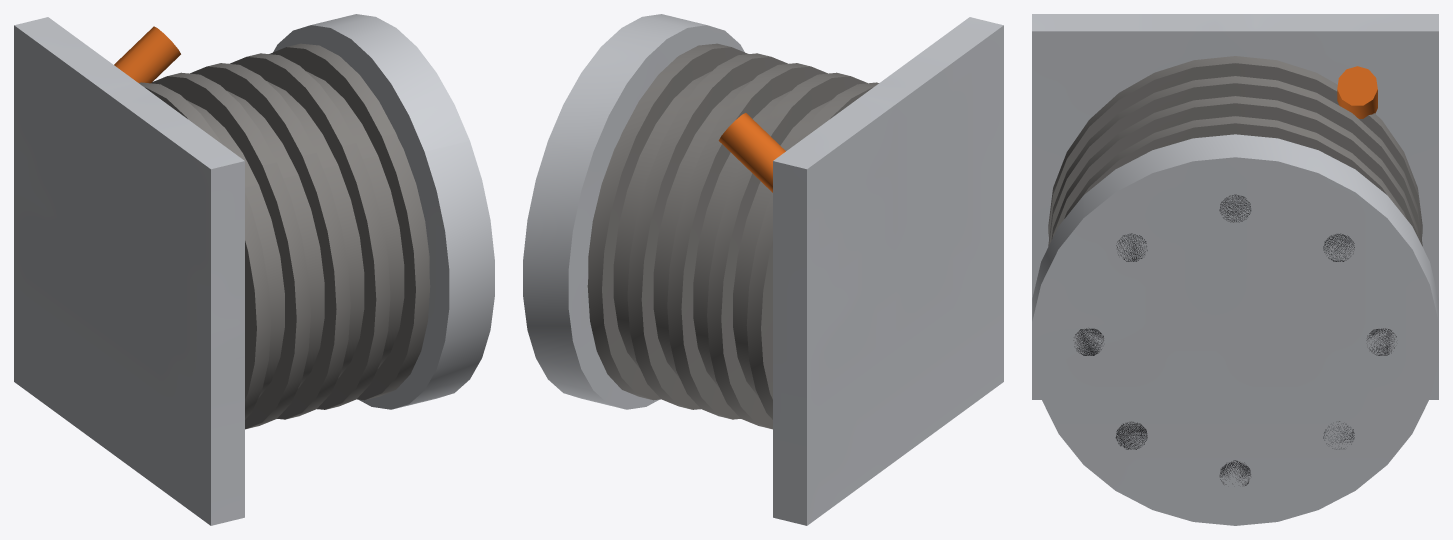
File: rover19_hub_drive_motor_xs.glb
3 renders of one model, left to right at view 1: azimuth 30°, elevation 25°; view 2: azimuth 150°, elevation 25°; view 3: azimuth 270°, elevation 25°, orthographic. The views are drawn at different scales.
Parts seen in each view (by area): view 1: mount_plate, fins, wheel_hub, stator, cable; view 2: mount_plate, fins, wheel_hub, stator, cable; view 3: wheel_hub, mount_plate, fins, hub_bolts, cable.
Boxes of the visible parts, x1,y1,x2,y2 form: mount_plate: (14,17,244,525); fins: (139,43,430,429); wheel_hub: (273,14,494,409); stator: (187,71,429,397); cable: (114,26,180,83); mount_plate: (773,17,1003,525); fins: (587,43,878,429); wheel_hub: (523,14,744,409); stator: (588,71,830,397); cable: (718,113,785,192); wheel_hub: (1032,134,1438,525); mount_plate: (1032,14,1438,399); fins: (1048,56,1422,246); hub_bolts: (1073,194,1396,485); cable: (1337,66,1377,118).
Size of the model in its own units: 0.05 by 0.0601 by 0.06.
Materials: 4 (2 with a texture image).
